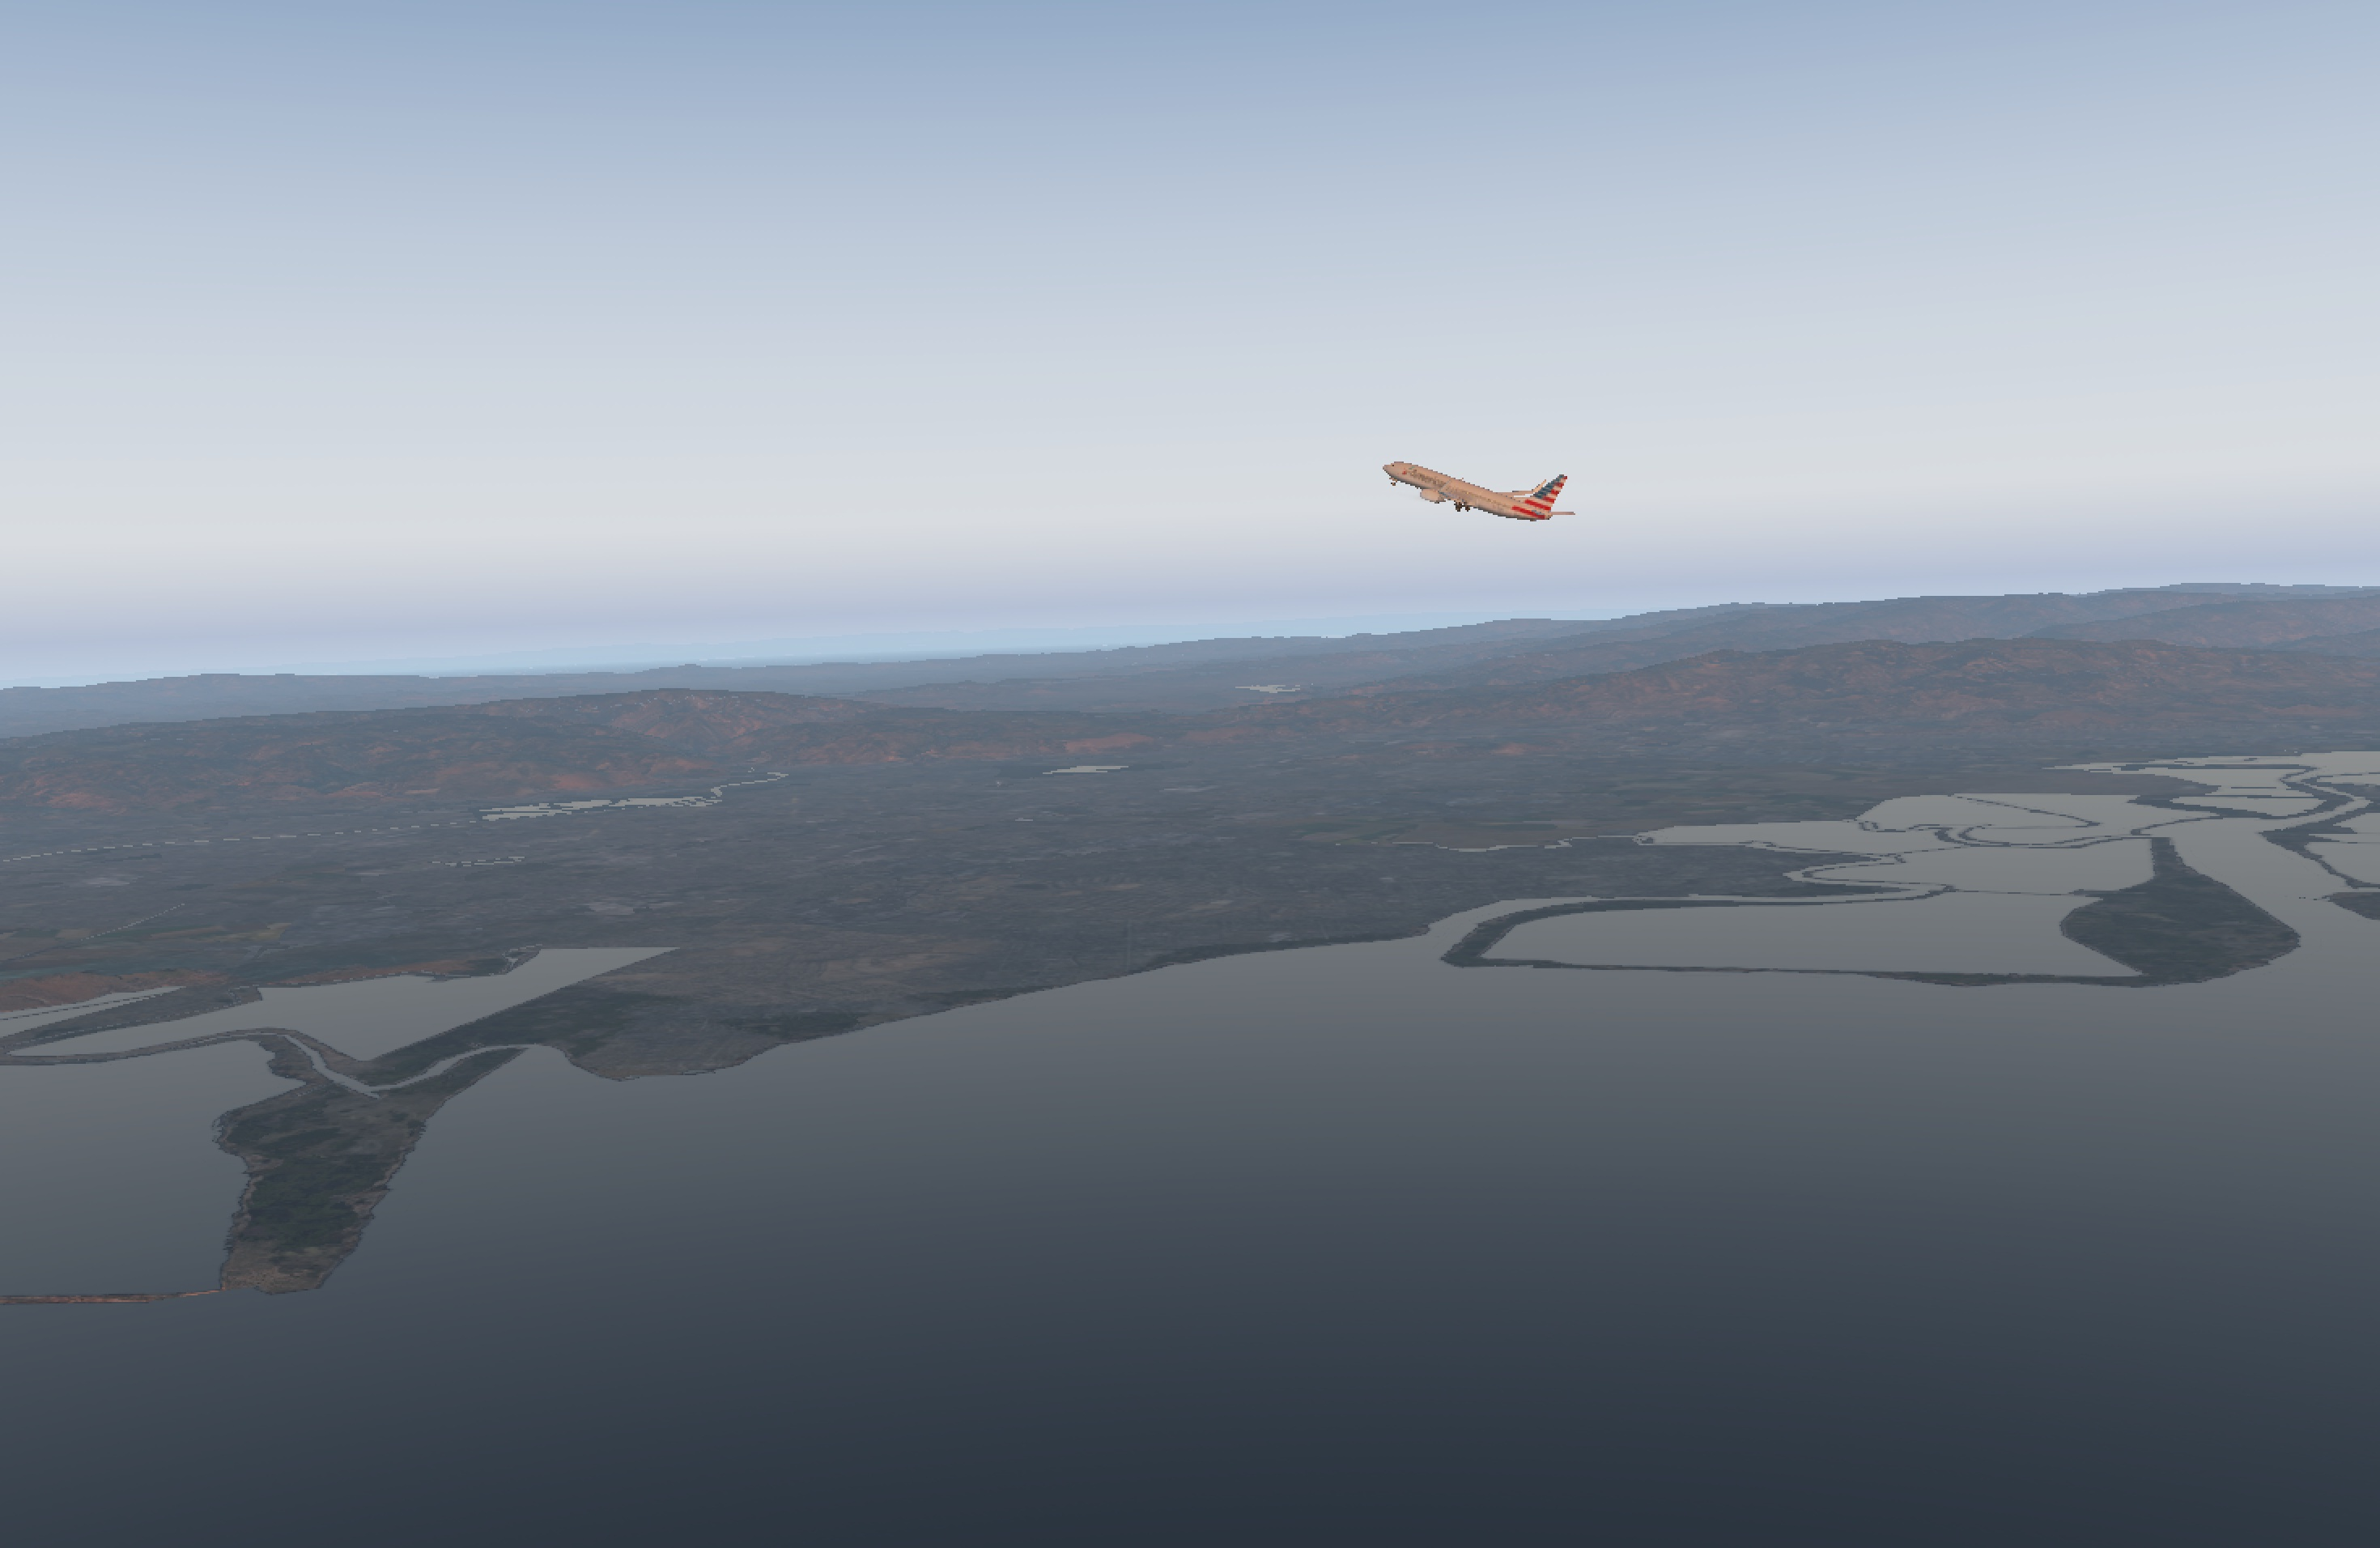aircraft: (1358, 456, 1563, 533)
